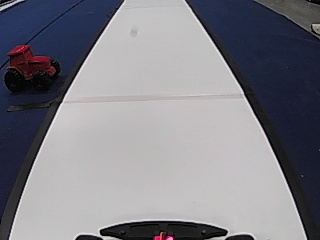tractor: (2, 42, 61, 92)
